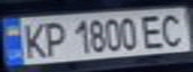0: (118, 15, 142, 51), (103, 16, 124, 52)
1: (69, 17, 90, 54)
8: (87, 16, 109, 53)
C: (157, 10, 190, 47)
E: (136, 11, 169, 50)
K: (15, 20, 51, 60)
P: (39, 19, 69, 57)
